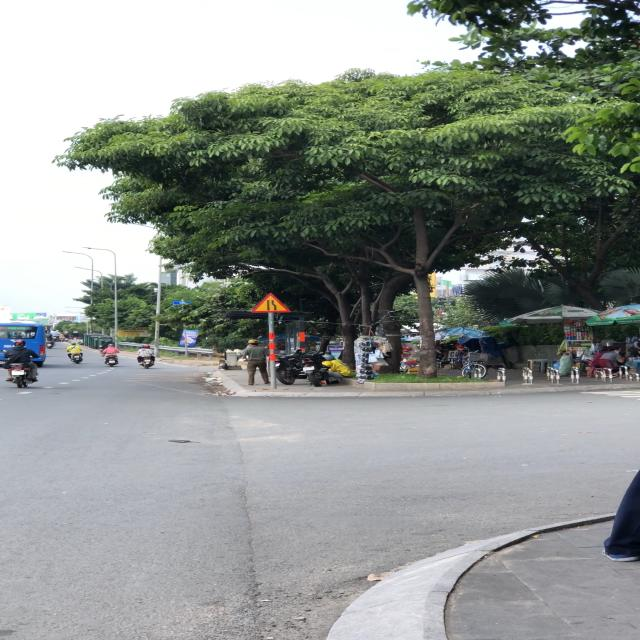Bien bao duong bi thu hep: (248, 292, 292, 314)
